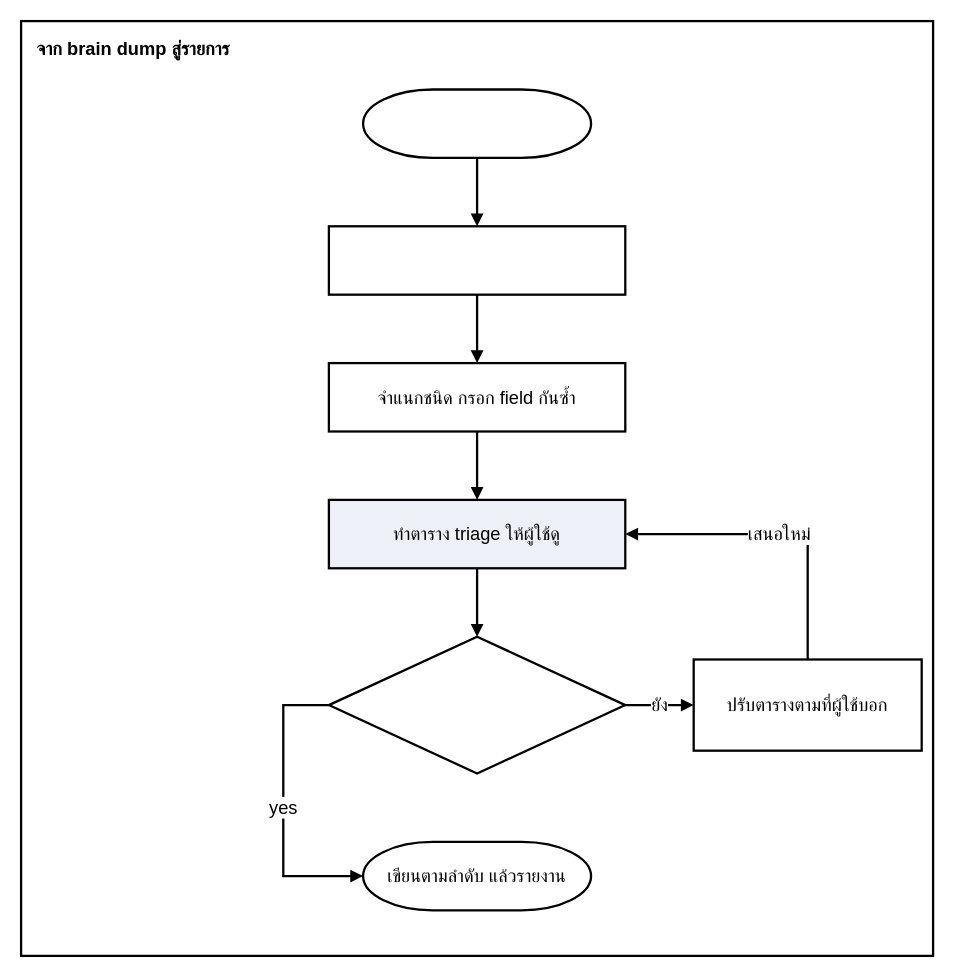
This 953x976 diagram has some shape labels left out. Each missing label, with the centre of its shape:
ผู้ใช้ตอบ yes?: the point at 476,704
เริ่ม: the point at 476,123
แยกทีละบรรทัด ตัดบริบทล้วนทิ้ง: the point at 476,260
